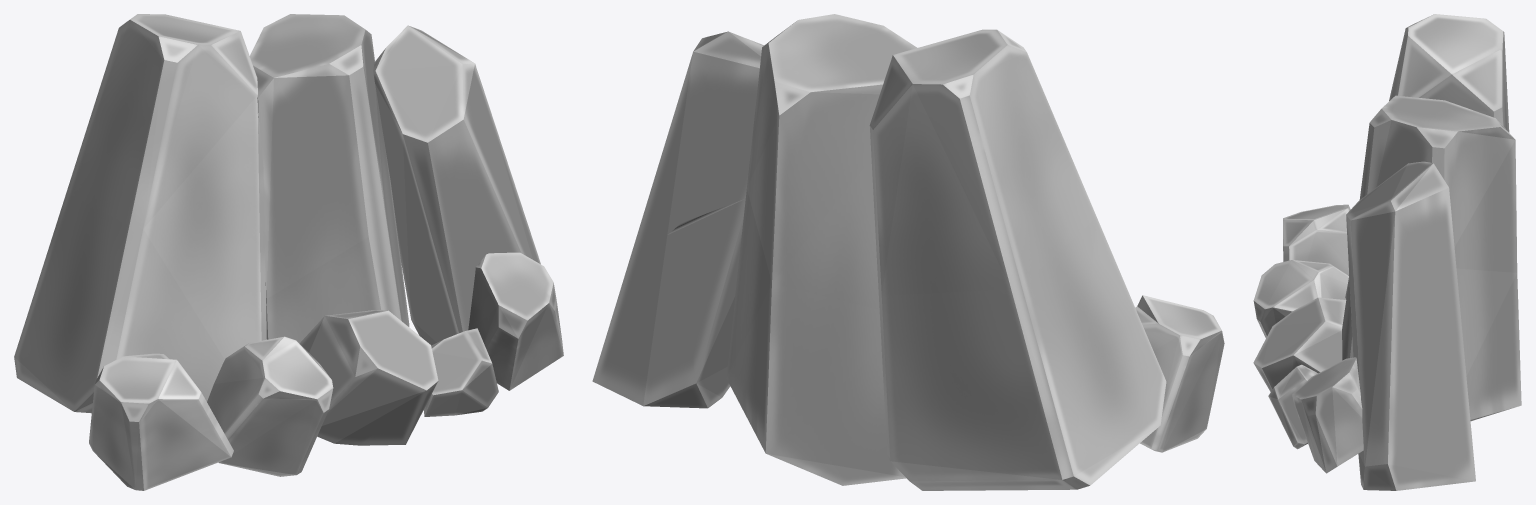
The model's file is Rock_Wall.fbx.
The picture shows the model from 3 angles, left to right: view 1: azimuth 30°, elevation 25°; view 2: azimuth 150°, elevation 25°; view 3: azimuth 270°, elevation 25°; orthographic projection. The views are drawn at different scales.
Visible parts, largest first — view 1: Rock03, Object037, Rock02, Rock01, Rock004, Rock007, Rock005, Rock006, Object038, Object039, Rock008; view 2: Object037, Rock03, Rock02, Object038, Object039, Rock01, Rock004; view 3: Rock01, Rock02, Object039, Rock03, Object038, Rock006, Rock007, Rock005, Rock004, Rock008.
Boxes of the visible parts, box(x1,y1,x2,y2) form: Rock03: box(66, 14, 265, 257); Object037: box(14, 192, 266, 413); Rock02: box(249, 14, 387, 298); Rock01: box(373, 25, 522, 240); Rock004: box(89, 353, 233, 490); Rock007: box(299, 310, 438, 445); Rock005: box(207, 336, 333, 476); Rock006: box(468, 252, 563, 390); Object038: box(266, 161, 409, 343); Object039: box(390, 179, 540, 345); Rock008: box(423, 328, 498, 416); Object037: box(878, 217, 1166, 490); Rock03: box(869, 29, 1096, 295); Rock02: box(747, 14, 917, 309); Object038: box(726, 189, 905, 485); Object039: box(592, 199, 745, 408); Rock01: box(637, 31, 763, 235); Rock004: box(1135, 295, 1224, 452); Rock01: box(1346, 161, 1463, 366); Rock02: box(1359, 95, 1517, 272); Object039: box(1351, 316, 1475, 490); Rock03: box(1389, 14, 1509, 132); Object038: box(1342, 268, 1521, 421); Rock006: box(1292, 357, 1363, 473); Rock007: box(1253, 297, 1346, 391); Rock005: box(1253, 260, 1348, 337); Rock004: box(1283, 204, 1350, 275); Rock008: box(1268, 364, 1317, 449).
Bounding box in the file's own units: 266 × 211 × 145.
3 materials, 3 textured.
